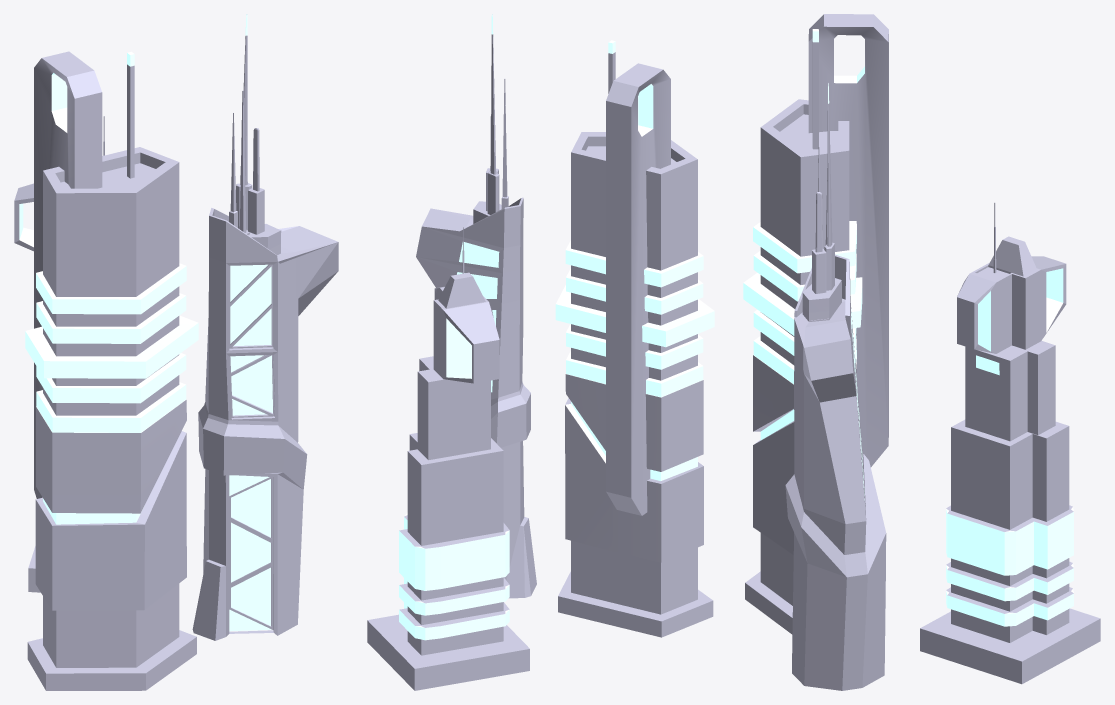
Rendered from budovycomplex.fbx.
The picture shows the model from 3 angles, left to right: view 1: azimuth 30°, elevation 25°; view 2: azimuth 150°, elevation 25°; view 3: azimuth 270°, elevation 25°; orthographic projection. The views are drawn at different scales.
Visible parts, largest first — view 1: Circle.004, Cube.003, Cube.001; view 2: Circle.004, Cube.001, Cube.003; view 3: Cube.001, Circle.004, Cube.003.
Part boxes in pixels (box(x1,y1,x2,y2)): Circle.004: box(25, 51, 198, 690); Cube.003: box(192, 14, 338, 640); Cube.001: box(14, 116, 104, 592); Circle.004: box(555, 40, 714, 637); Cube.001: box(367, 227, 529, 690); Cube.003: box(416, 14, 536, 598); Cube.001: box(920, 202, 1100, 684); Circle.004: box(743, 14, 888, 634); Cube.003: box(785, 83, 886, 690).
Size of the model in its own units: 441 by 848 by 469.
